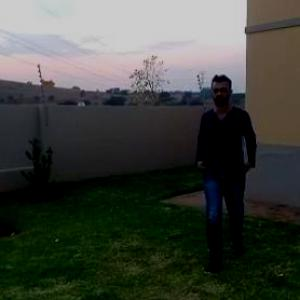follow: (195, 74, 255, 250)
